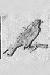G37: (5, 1, 45, 75)
